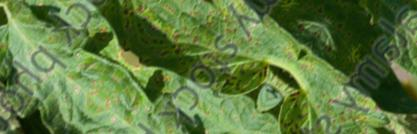Tomato Septoria leaf spot: (129, 0, 314, 134), (134, 31, 269, 134), (58, 66, 231, 134), (38, 113, 201, 134), (228, 0, 371, 9)
